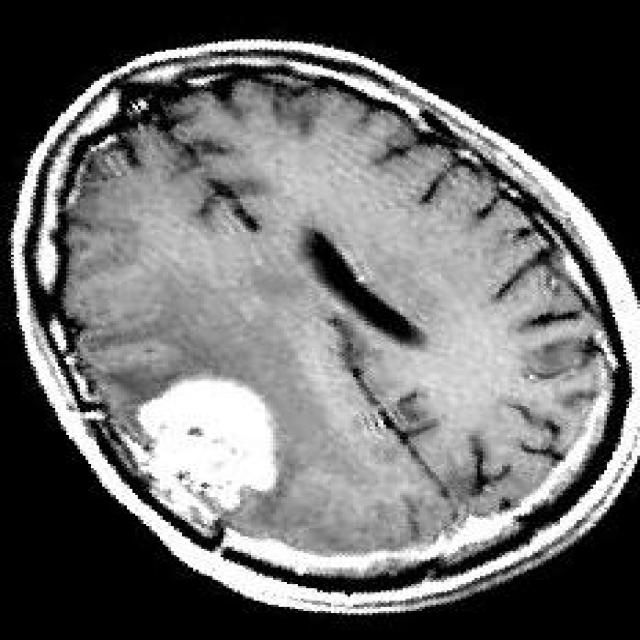Tumor-Cell: (114, 368, 261, 506)
